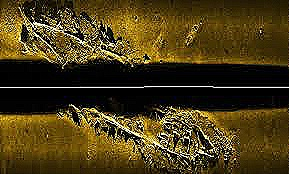ship: (17, 5, 220, 166)
